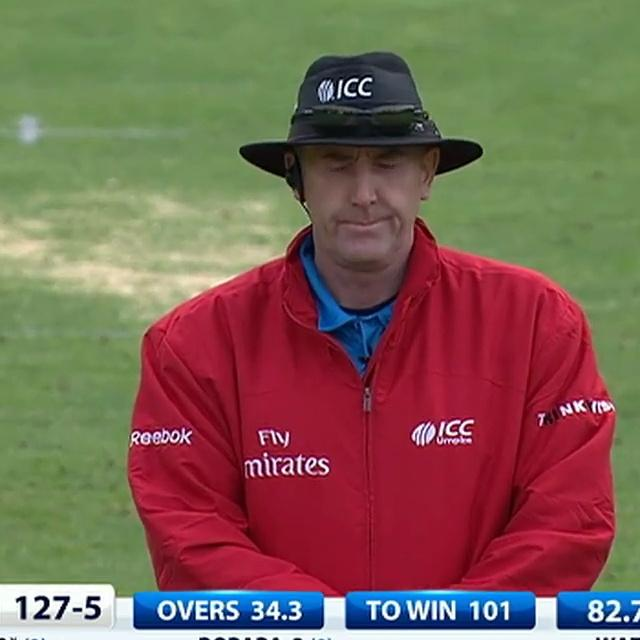umpire: (94, 17, 640, 592)
